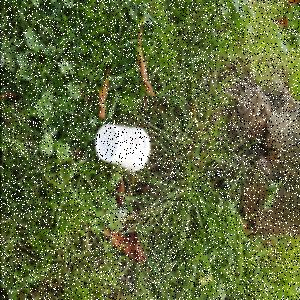Cup: (93, 123, 152, 176)
